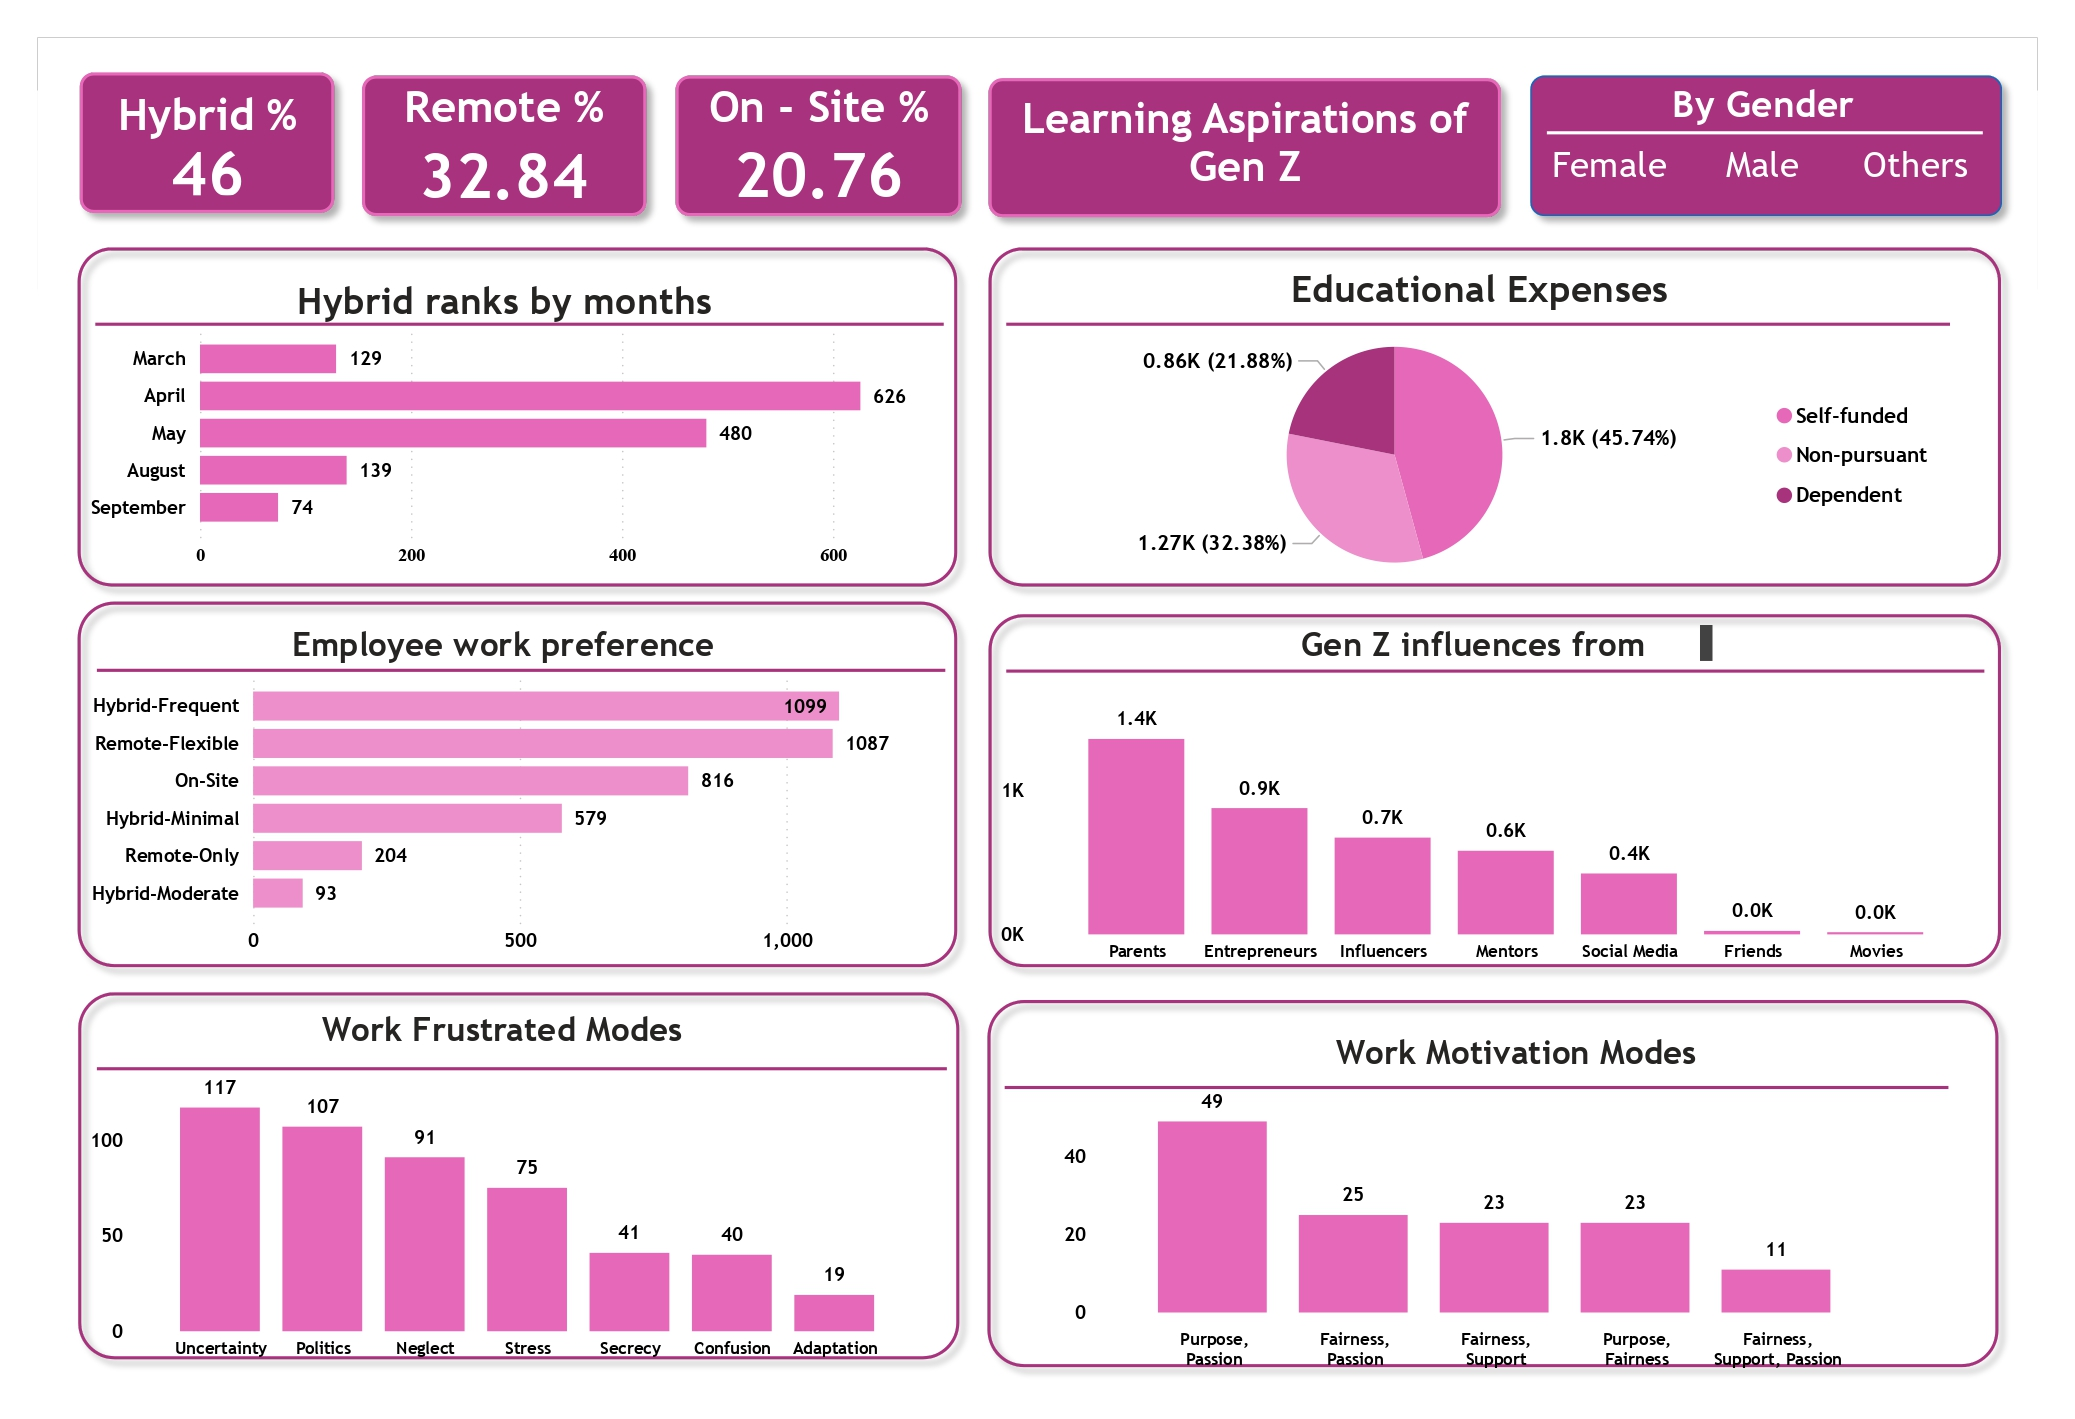

The dashboard page shown, as its layout file describes it:
{"tool":"powerbi","page":{"name":"LA","canvas":[1280,860],"ordinal":3},"visuals":[{"type":"shape","box":[18.2,13.3,180.6,107.7],"z":0},{"type":"shape","box":[198.8,14.9,200.4,107.7],"z":1000},{"type":"shape","box":[399.2,14.9,200.4,107.7],"z":2000},{"type":"shape","box":[599.6,16.6,346.2,107.7],"z":3000},{"type":"shape","box":[945.9,14.9,319.7,107.7],"z":4000},{"type":"textbox","box":[619.5,31.5,306.4,79.5],"z":5000},{"type":"card","title":"Hybrid %","fields":{"Values":["Responses.Hybrid %"]},"box":[28.2,33.1,162.3,72.9],"z":6000},{"type":"card","title":"Remote %","fields":{"Values":["Sum(Responses.Remote %)"]},"box":[223.1,27.9,151.4,85.6],"z":7000},{"type":"advancedSlicerVisual","title":"By Gender","fields":{"Values":["Responses.Gender"]},"box":[956,27.9,296.8,69.7],"z":8000},{"type":"shape","box":[966,53.8,278.8,13.9],"z":9000},{"type":"card","title":"On - Site %","fields":{"Values":["Measures (2).On-Site1 %"]},"box":[420.3,27.9,159.3,83.7],"z":10000},{"type":"shape","box":[16.5,124.8,581.6,234.8],"z":11000},{"type":"barChart","fields":{"Category":["Responses.Time.Variation.Date Hierarchy.Month"],"Y":["Responses.Hybrid Count"]},"box":[27.5,174.3,543.1,172.5],"z":12000},{"type":"shape","box":[36.7,174.3,543.1,18.3],"z":13000},{"type":"textbox","box":[144.9,148.6,308.2,51.4],"z":14000},{"type":"shape","box":[600,124.8,666,234.8],"z":15000},{"type":"pieChart","title":"Educational ","fields":{"Category":["Responses.Educational Expenses About UG , PG For Foregin"],"Y":["CountNonNull(Responses.Gender)"]},"box":[620.1,174.3,603.6,185.3],"z":16000},{"type":"shape","box":[620.1,174.3,603.6,18.3],"z":17000},{"type":"textbox","box":[768.7,141.3,308.2,51.4],"z":18000},{"type":"shape","box":[16.5,352.3,581.6,251.4],"z":19000},{"type":"shape","box":[600,359.6,666,244],"z":20000},{"type":"barChart","fields":{"Category":["Responses.Work Environment"],"Y":["CountNonNull(Responses.Work Environment)"]},"box":[27.5,396.3,543.1,198.1],"z":21000},{"type":"shape","box":[38.1,395.9,543.3,18.2],"z":22000},{"type":"textbox","box":[144.1,371.1,308.1,34.8],"z":23000},{"type":"columnChart","fields":{"Category":["Responses.Career Influence"],"Y":["CountNonNull(Responses.Gender)"]},"box":[611.4,413.5,633.1,188],"z":24000},{"type":"shape","box":[620.1,396.3,625.6,18.3],"z":25000},{"type":"textbox","box":[768.7,370.6,308.2,34.9],"z":26000},{"type":"shape","box":[16.9,601.7,582.4,253.7],"z":27000},{"type":"shape","box":[599.3,606.6,664.6,253.7],"z":28000},{"type":"columnChart","fields":{"Category":["Responses.Work Frustration Modes"],"Y":["CountNonNull(Responses.Gender)"]},"box":[27.7,651,540.2,203.8],"z":29000},{"type":"shape","box":[37.6,651,544.1,17.8],"z":30000},{"type":"textbox","box":[144.4,617.3,306.7,35.6],"z":31000},{"type":"shape","box":[619.3,660.8,603.5,21.8],"z":32000},{"type":"columnChart","fields":{"Y":["CountNonNull(Responses.Gender)"],"Category":["Responses.Work Motivation Status"]},"box":[651,656.9,540.2,203.8],"z":33000},{"type":"textbox","box":[451.9,628.3,9.7,29],"z":34000},{"type":"textbox","box":[793.2,632.4,306.8,36.5],"z":35000}]}

Visuals, with their boxes in screenshot pixels (x1, y1, x2, y2):
shape: [left=66, top=58, right=348, bottom=227]
shape: [left=348, top=61, right=661, bottom=229]
shape: [left=661, top=61, right=974, bottom=229]
shape: [left=974, top=63, right=1515, bottom=232]
shape: [left=1515, top=61, right=2015, bottom=229]
textbox: [left=1005, top=87, right=1484, bottom=211]
"Hybrid %" card: [left=82, top=89, right=335, bottom=203]
"Remote %" card: [left=386, top=81, right=623, bottom=215]
"By Gender" advancedSlicerVisual: [left=1531, top=81, right=1995, bottom=190]
shape: [left=1547, top=122, right=1982, bottom=143]
"On - Site %" card: [left=694, top=81, right=943, bottom=212]
shape: [left=63, top=233, right=972, bottom=599]
barChart - Responses.Time.Variation.Date Hierarchy.Month x Responses.Hybrid Count: [left=80, top=310, right=929, bottom=579]
shape: [left=95, top=310, right=943, bottom=338]
textbox: [left=264, top=270, right=745, bottom=350]
shape: [left=975, top=233, right=2016, bottom=599]
"Educational " pieChart: [left=1006, top=310, right=1950, bottom=599]
shape: [left=1006, top=310, right=1950, bottom=338]
textbox: [left=1239, top=258, right=1720, bottom=339]
shape: [left=63, top=588, right=972, bottom=981]
shape: [left=975, top=599, right=2016, bottom=981]
barChart - Responses.Work Environment x CountNonNull(Responses.Work Environment): [left=80, top=657, right=929, bottom=966]
shape: [left=97, top=656, right=946, bottom=685]
textbox: [left=263, top=617, right=744, bottom=672]
columnChart - Responses.Career Influence x CountNonNull(Responses.Gender): [left=993, top=684, right=1982, bottom=978]
shape: [left=1006, top=657, right=1984, bottom=685]
textbox: [left=1239, top=617, right=1720, bottom=671]
shape: [left=64, top=978, right=974, bottom=1374]
shape: [left=974, top=985, right=2012, bottom=1381]
columnChart - Responses.Work Frustration Modes x CountNonNull(Responses.Gender): [left=81, top=1055, right=925, bottom=1373]
shape: [left=96, top=1055, right=946, bottom=1083]
textbox: [left=263, top=1002, right=742, bottom=1058]
shape: [left=1005, top=1070, right=1948, bottom=1104]
columnChart - CountNonNull(Responses.Gender) x Responses.Work Motivation Status: [left=1055, top=1064, right=1899, bottom=1381]
textbox: [left=744, top=1019, right=759, bottom=1065]
textbox: [left=1277, top=1026, right=1756, bottom=1083]
